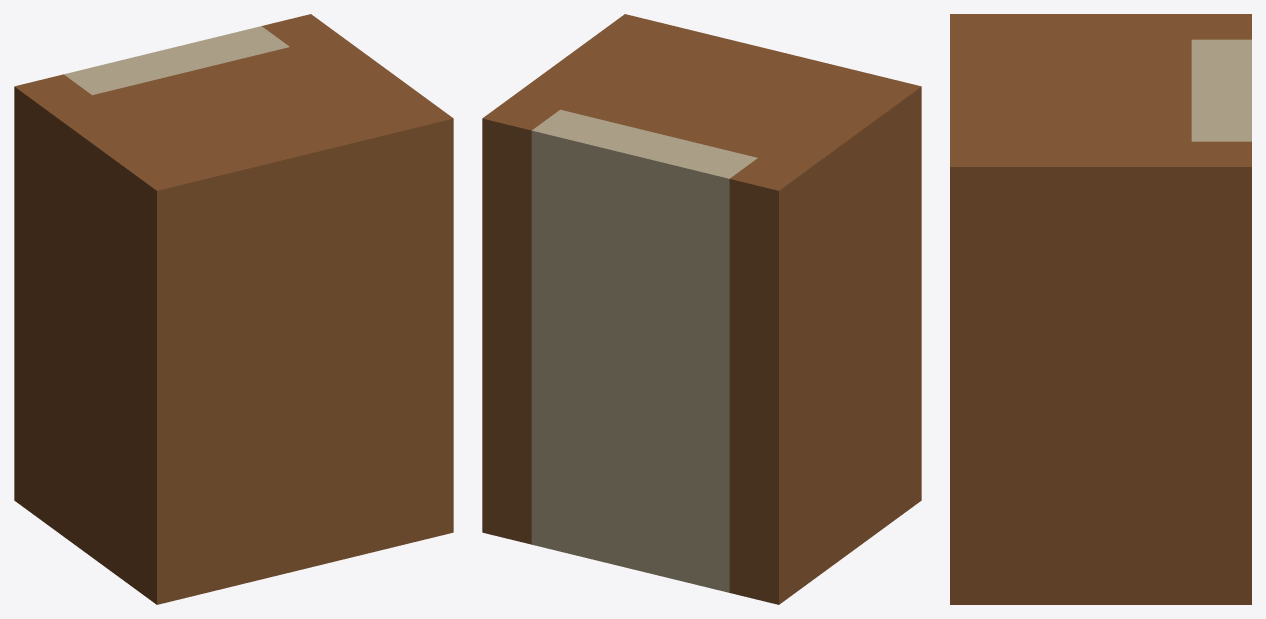
Rendered from neck.glb.
3 views of the same model, side by side, from view 1: azimuth 30°, elevation 25°; view 2: azimuth 150°, elevation 25°; view 3: azimuth 270°, elevation 25° (orthographic). The views are drawn at different scales.
Parts seen in each view (by area): view 1: VoxelVisual; view 2: VoxelVisual; view 3: VoxelVisual.
Boxes of the visible parts, bbox=[...] form: VoxelVisual: bbox=[14, 14, 453, 604]; VoxelVisual: bbox=[482, 14, 921, 604]; VoxelVisual: bbox=[950, 14, 1251, 604].
Size of what is drawn, in the model's own units: 0.375 by 0.5 by 0.3125.
